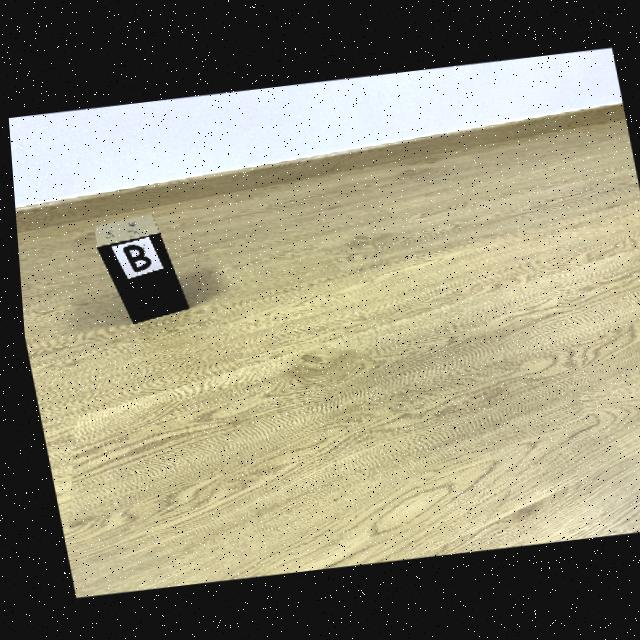B: (119, 245, 148, 272)
